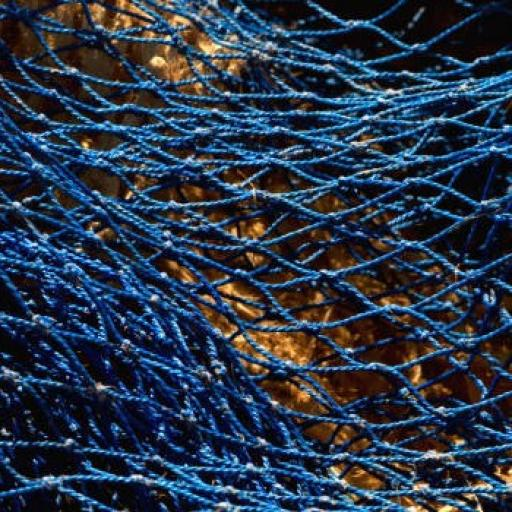net: (1, 5, 511, 510)
